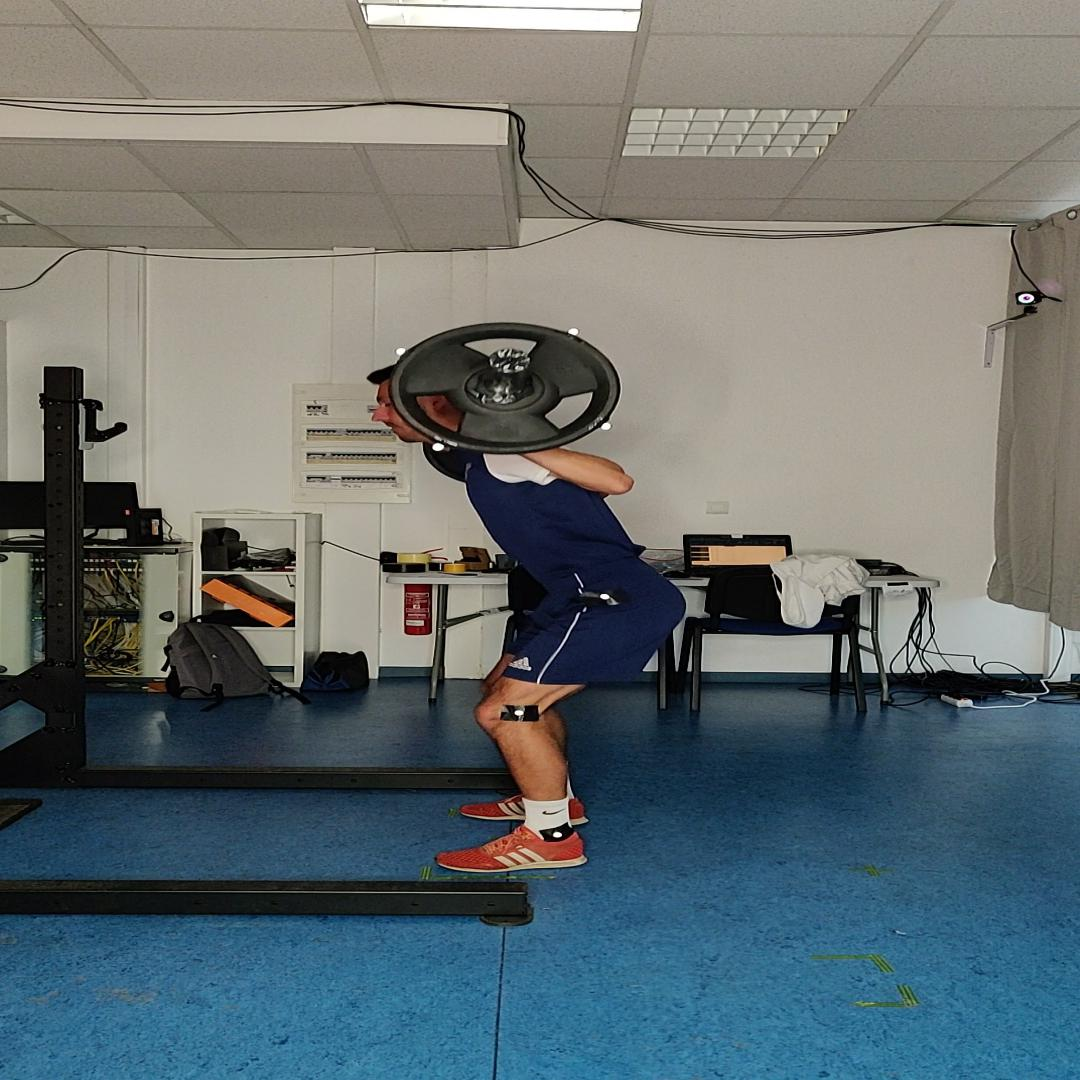Bar: (489, 349, 531, 373)
Barbell: (390, 322, 621, 454)
